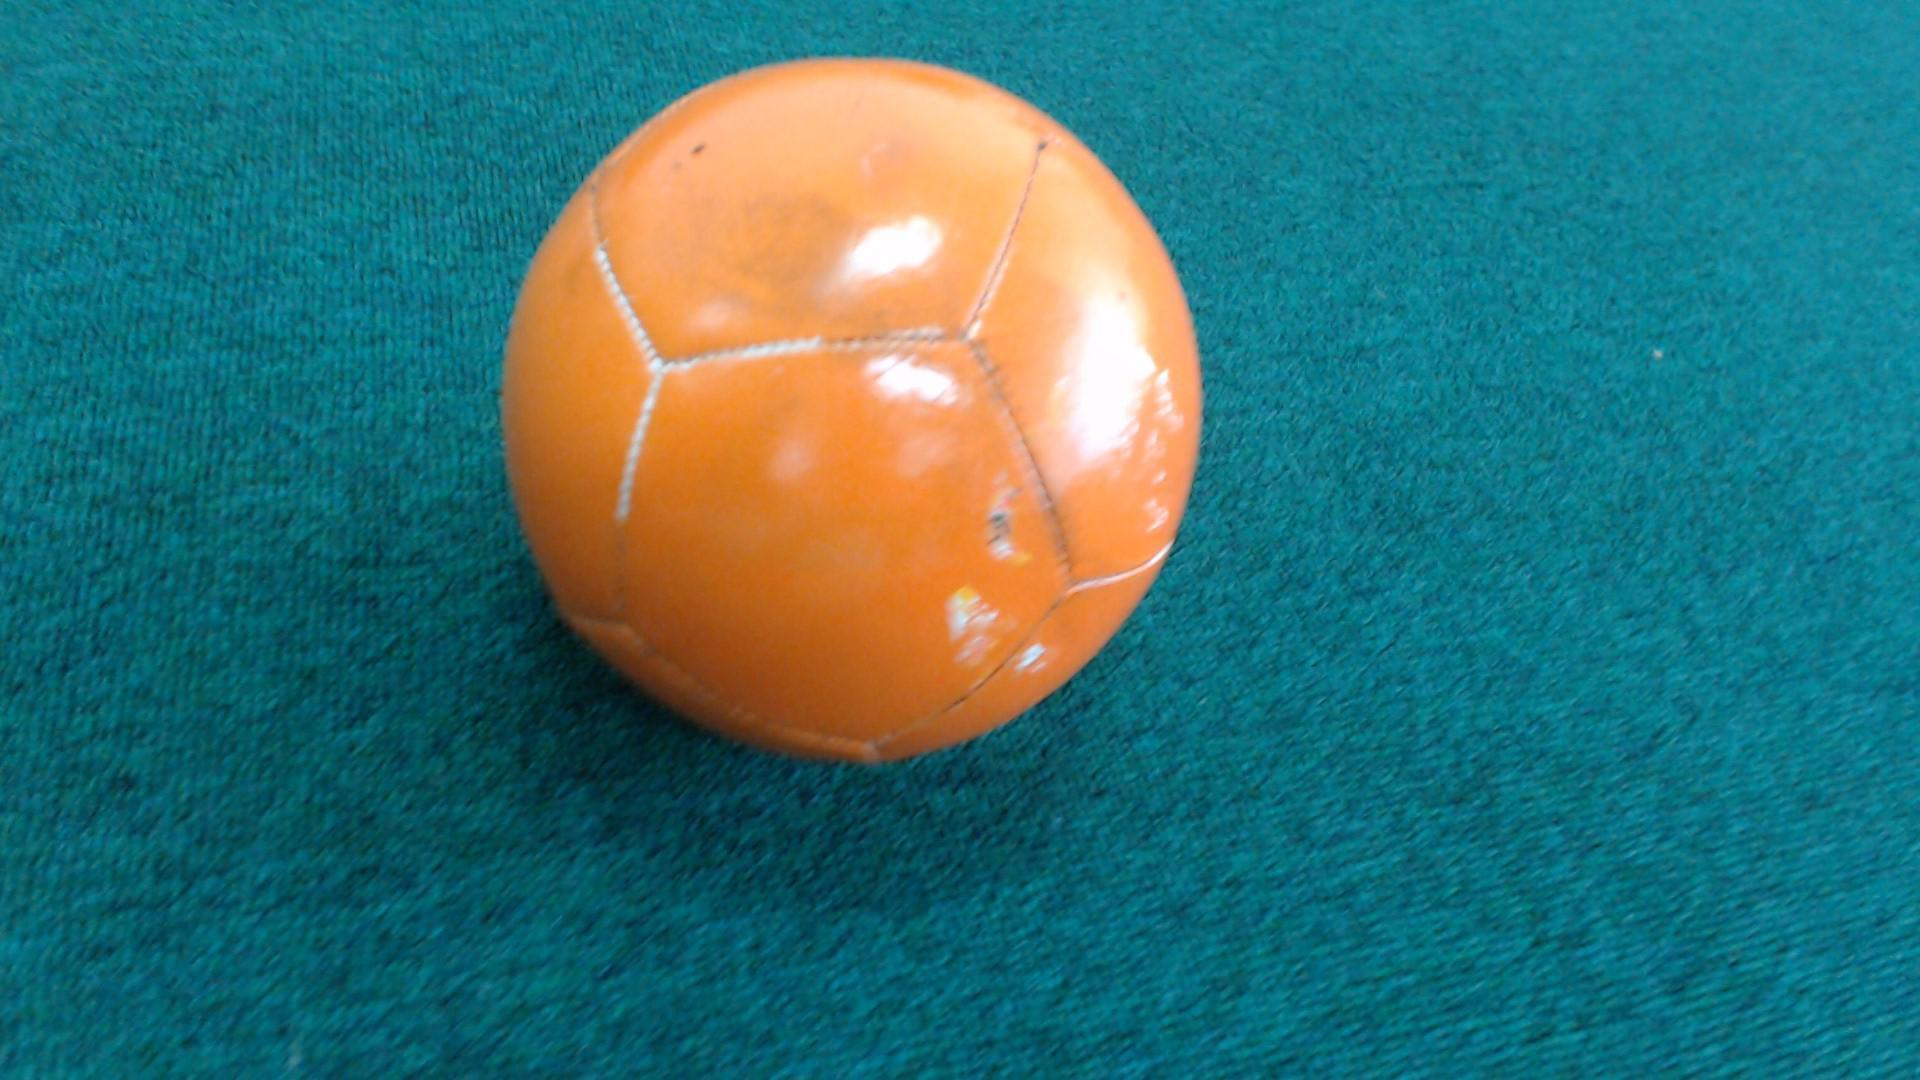bola: (471, 16, 1247, 773)
